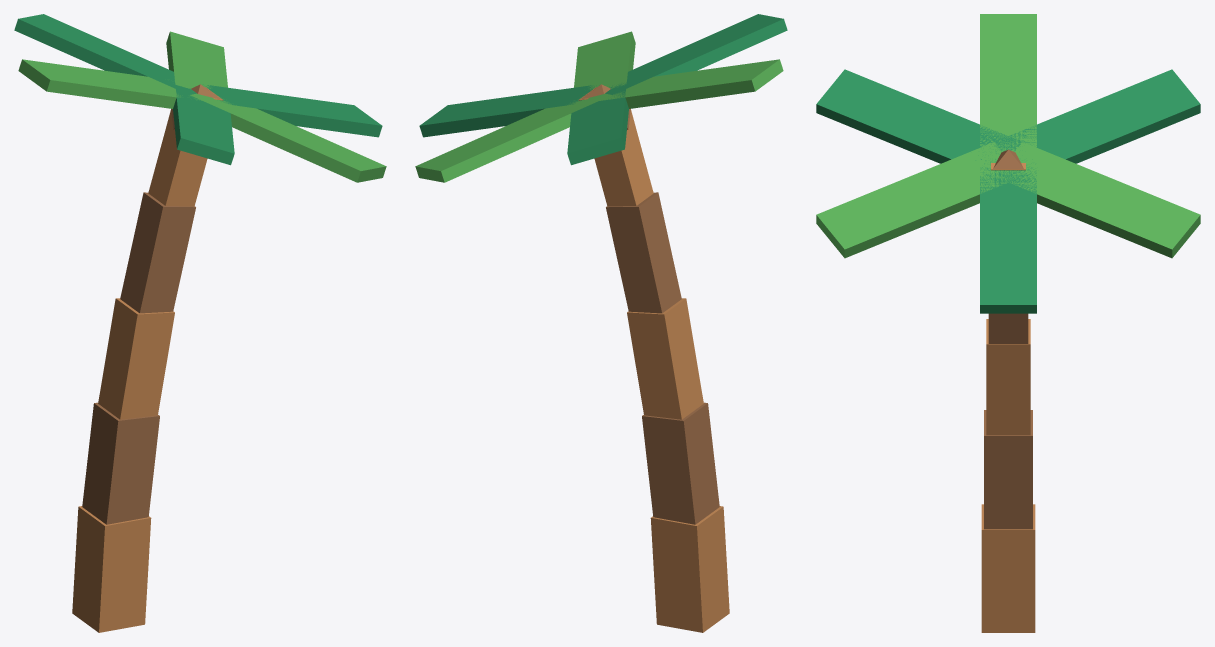
File: tree_palm.glb
3 views of the same model, side by side, from view 1: azimuth 30°, elevation 25°; view 2: azimuth 150°, elevation 25°; view 3: azimuth 270°, elevation 25° (orthographic).
Visible parts, largest first — view 1: tree_palm; view 2: tree_palm; view 3: tree_palm.
Boxes of the visible parts, x1,y1,x2,y2 form: tree_palm: (14, 14, 386, 632); tree_palm: (415, 14, 787, 632); tree_palm: (816, 14, 1200, 632).
Bounding box in the file's own units: 0.3211 × 0.5192 × 0.3161.
